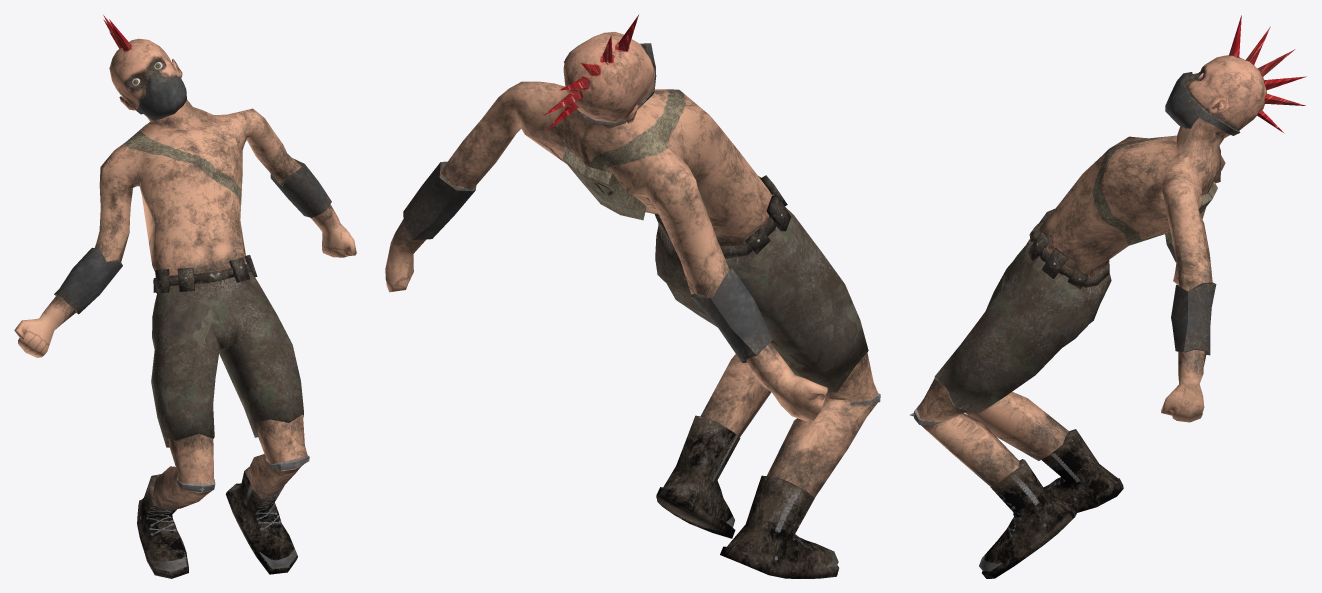
File: Anim_morir_1_npc2.0023.obj
3 renders of one model, left to right at view 1: azimuth 30°, elevation 25°; view 2: azimuth 150°, elevation 25°; view 3: azimuth 270°, elevation 25°, orthographic. The views are drawn at different scales.
Parts seen in each view (by area): view 1: polySurface1; view 2: polySurface1; view 3: polySurface1.
Part boxes in pixels (box(x1,y1,x2,y2)): polySurface1: box(14, 15, 356, 578); polySurface1: box(385, 15, 880, 578); polySurface1: box(910, 15, 1306, 578).
Bounding box in the file's own units: 5.85 × 8.18 × 5.56.
